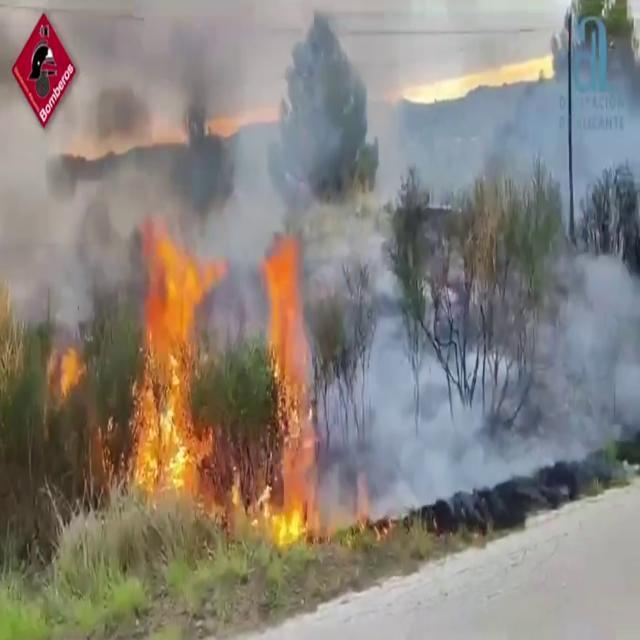Fire: (119, 193, 237, 540), (250, 218, 327, 542), (48, 331, 87, 408)
Smoke: (0, 0, 333, 288), (318, 319, 510, 516), (515, 228, 640, 469)
